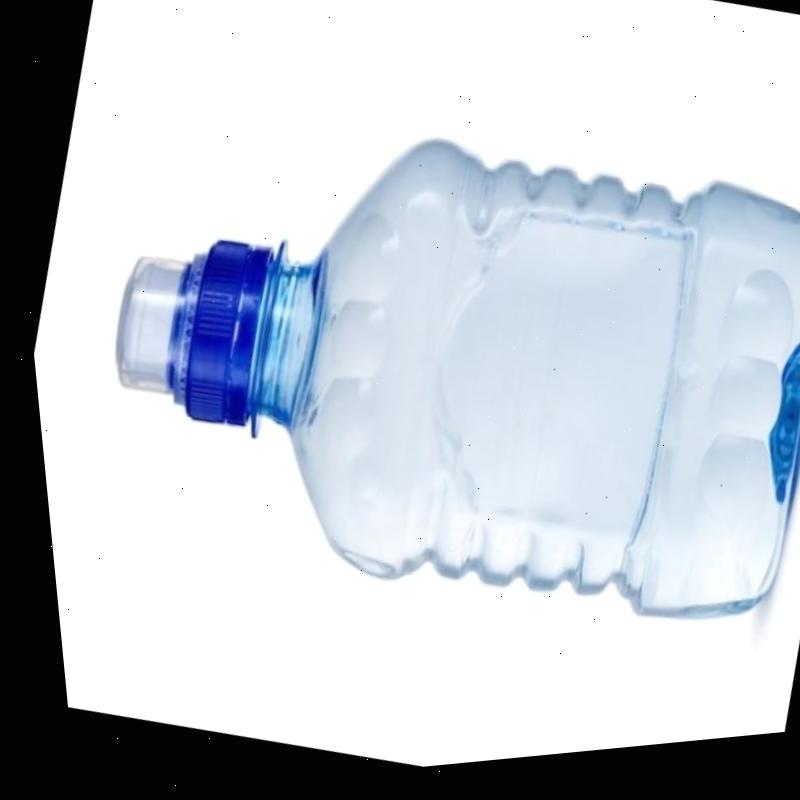botella: (36, 40, 800, 711)
